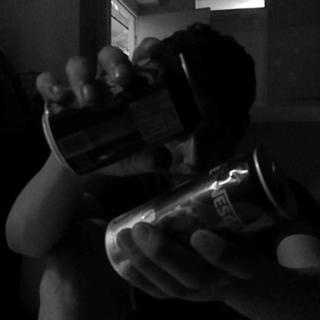alumunium_can: (104, 142, 297, 288), (44, 53, 200, 177)
